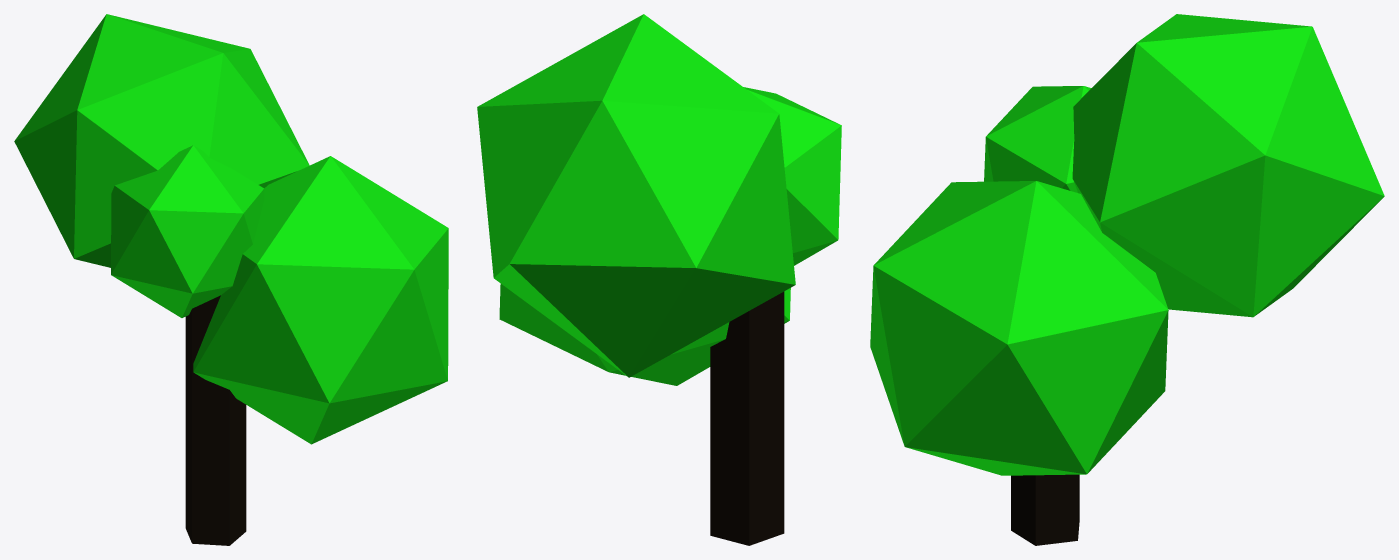
Rendered from Tree.FBX.
3 views of the same model, side by side, from view 1: azimuth 30°, elevation 25°; view 2: azimuth 150°, elevation 25°; view 3: azimuth 270°, elevation 25° (orthographic). The views are drawn at different scales.
Visible parts, largest first — view 1: Tree_7; view 2: Tree_7; view 3: Tree_7.
Part boxes in pixels (x1,y1,x2,y2): Tree_7: (14, 14, 448, 545); Tree_7: (477, 14, 841, 545); Tree_7: (870, 14, 1384, 545).
Size of the model in its own units: 141 by 194 by 176.
